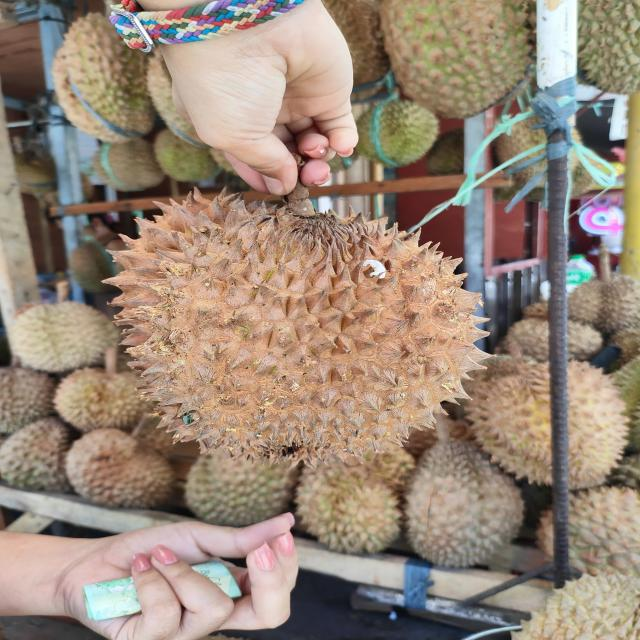mature: (105, 188, 500, 474)
